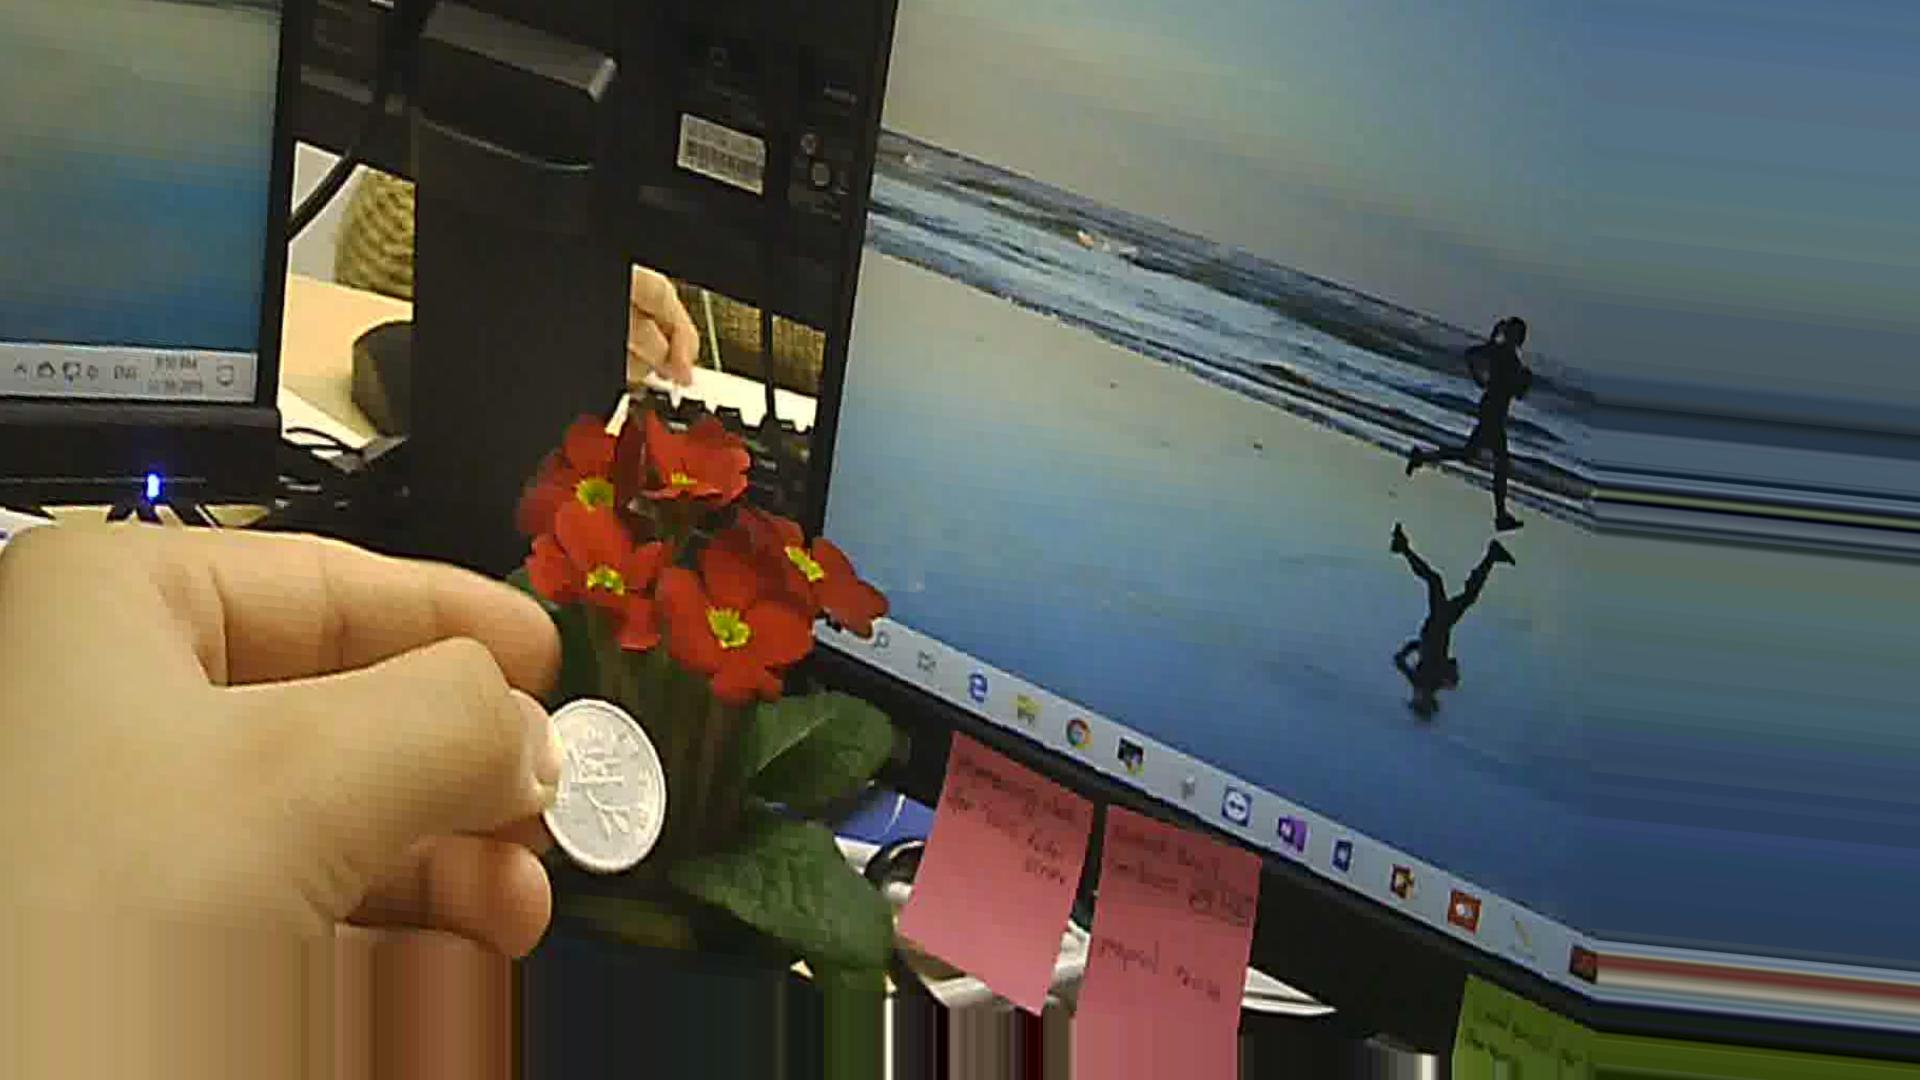1 Yen: (537, 705, 665, 861)
